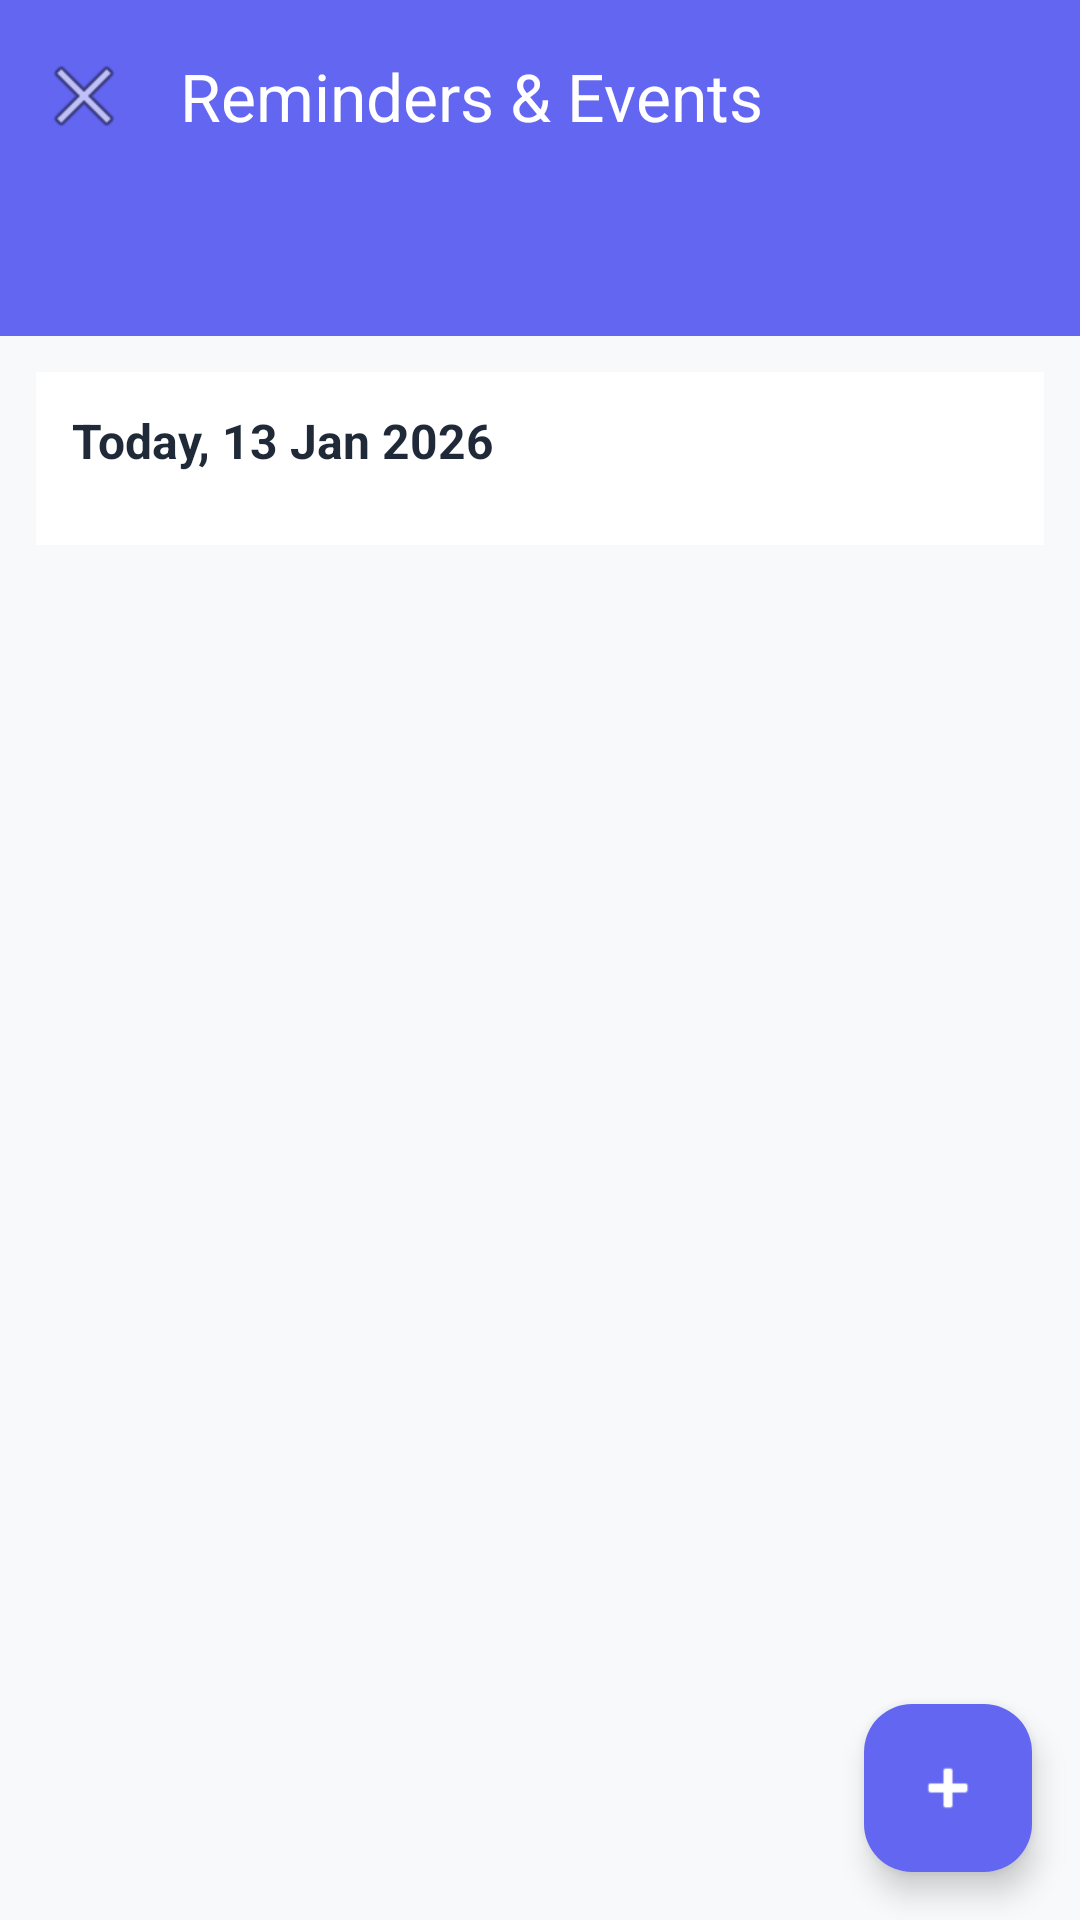

Named icons in this screenshot (1080px×1920px) and their bounding boxes, bbox=[x1, y1, x2, y2]:
Create New Reminder: bbox=[864, 1704, 1032, 1872]
